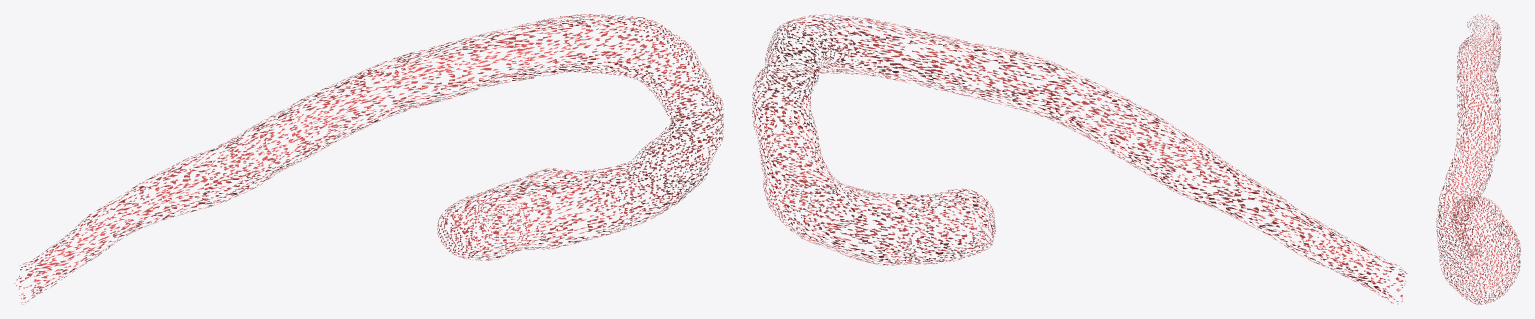
The model's file is aorta.glb.
The picture shows the model from 3 angles, left to right: view 1: azimuth 30°, elevation 25°; view 2: azimuth 150°, elevation 25°; view 3: azimuth 270°, elevation 25°; orthographic projection. The views are drawn at different scales.
Size of the model in its own units: 242 by 78.93 by 36.47.
